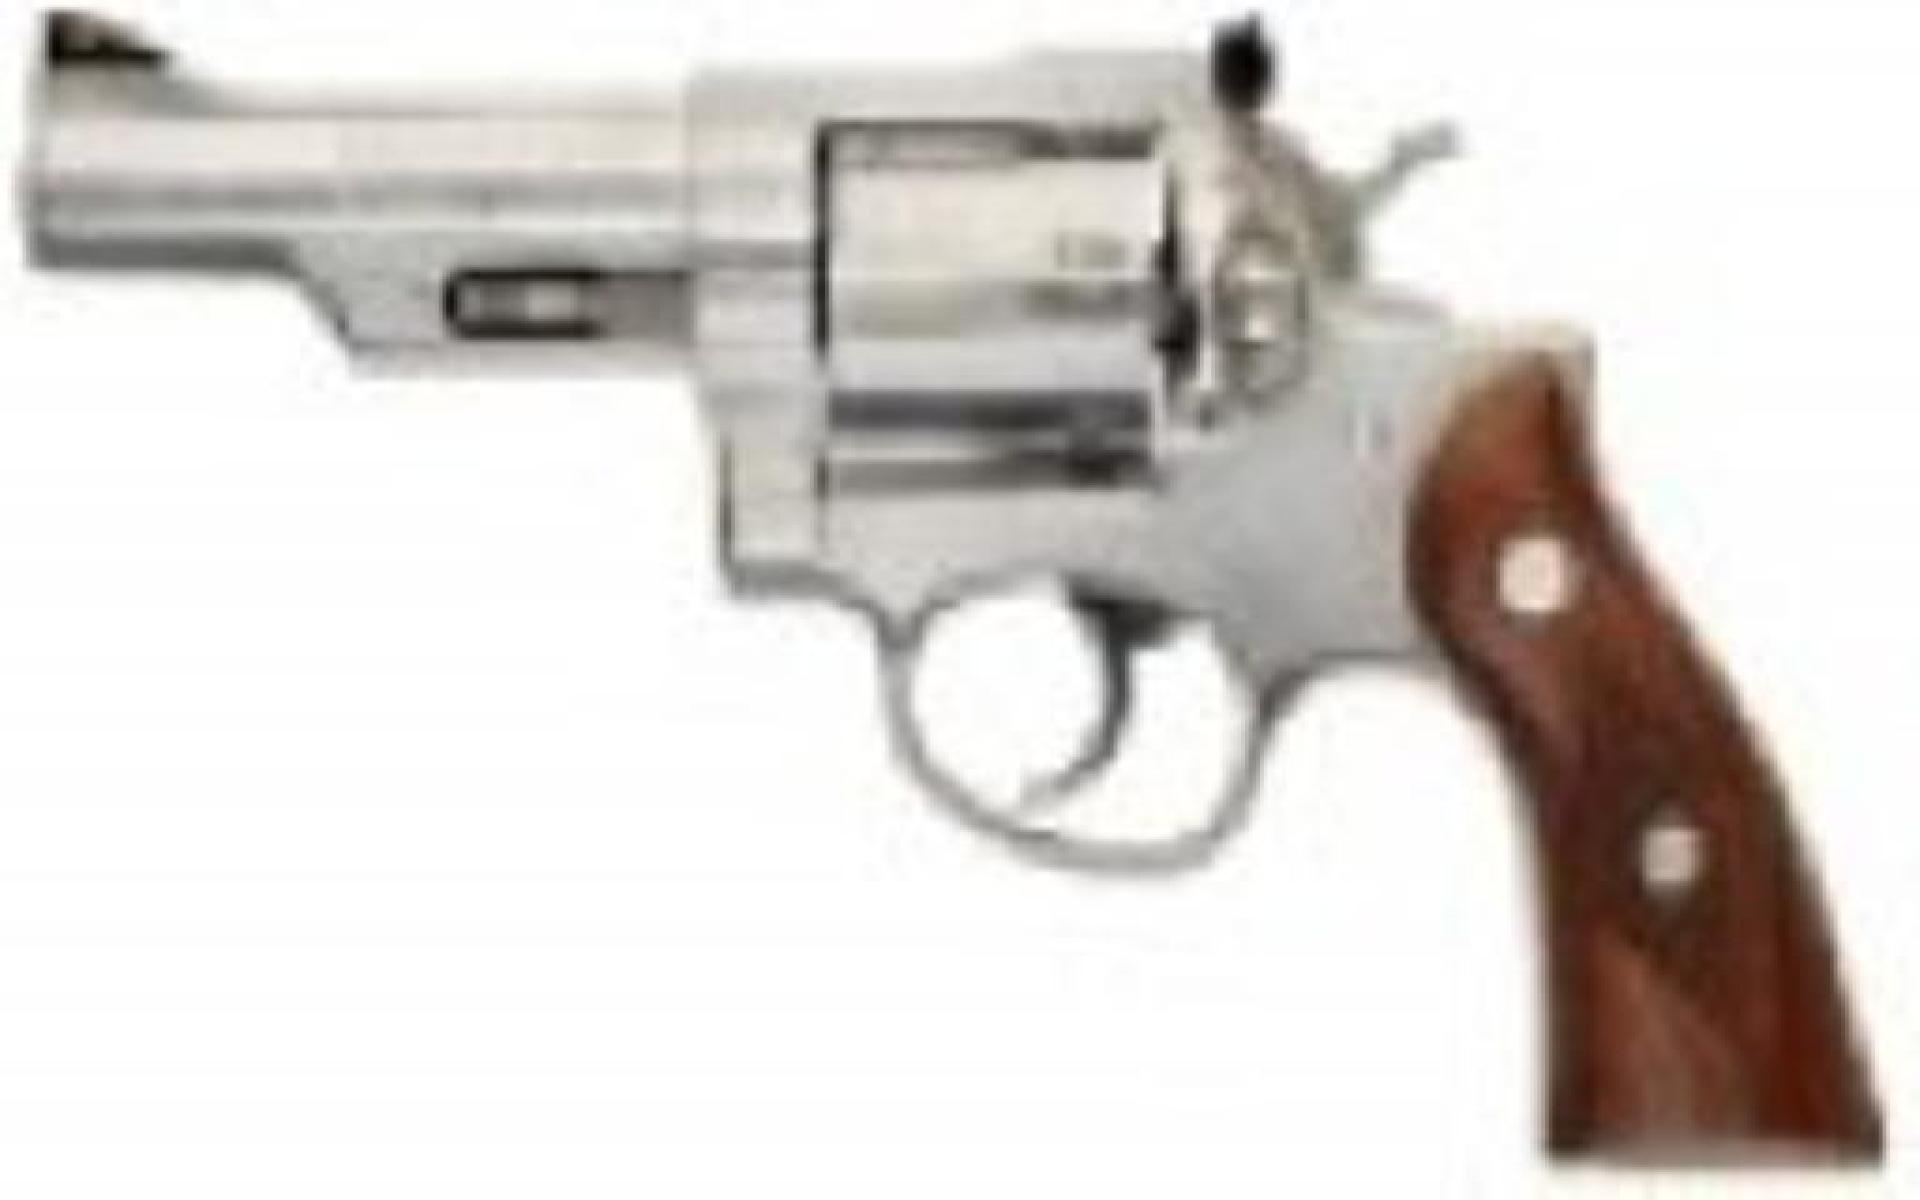gun: (19, 7, 1879, 1176)
